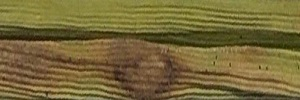RiceBlast: (5, 39, 189, 100)
